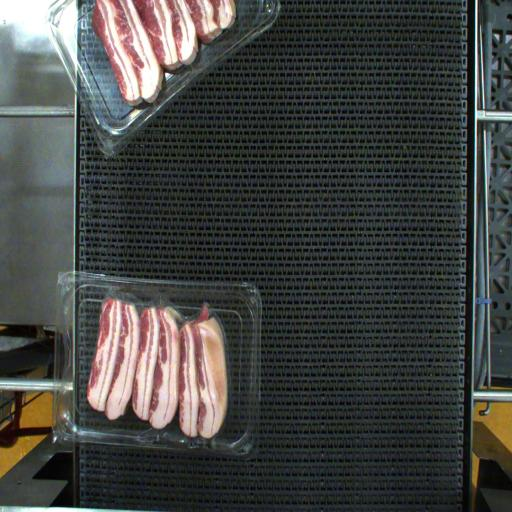unsealed: (90, 290, 234, 443)
